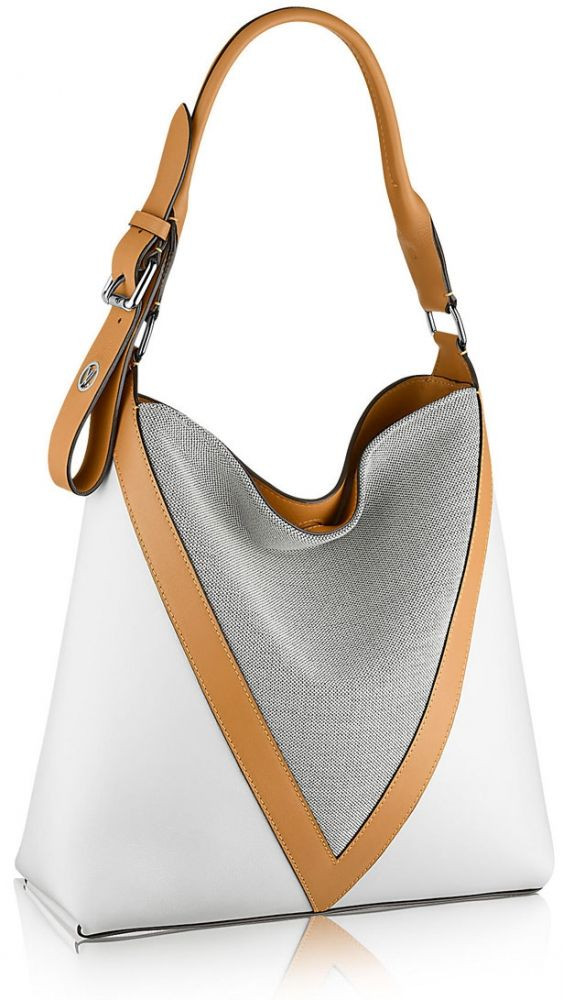cuero: (51, 5, 491, 910)
